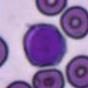L: (22, 23, 68, 67)
